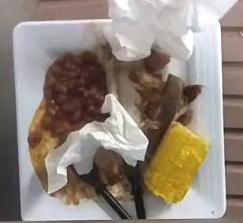beans: (29, 52, 108, 147)
corn: (143, 121, 208, 201)
